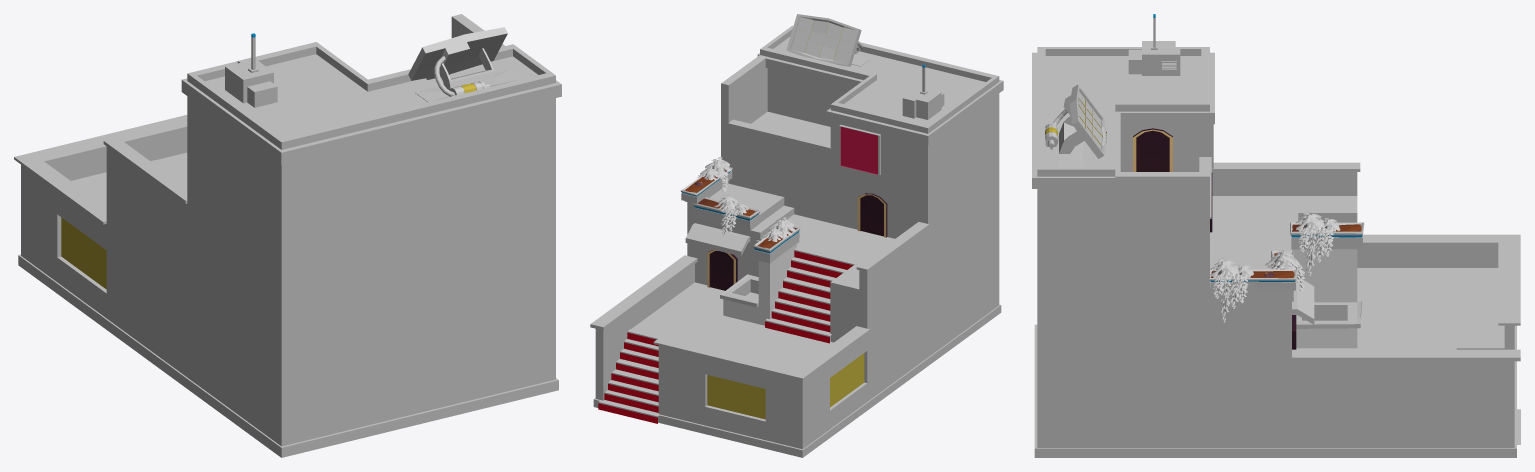
Rendered from Building_ApartmentTest2.fbx.
3 renders of one model, left to right at view 1: azimuth 30°, elevation 25°; view 2: azimuth 150°, elevation 25°; view 3: azimuth 270°, elevation 25°, orthographic. The views are drawn at different scales.
Parts seen in each view (by area): view 1: Double House Platform 01; view 2: Double House Platform 01, Planter.011, Planter.012, Planter.006; view 3: Double House Platform 01, Planter.006, Planter.012, Planter.011.
Boxes of the visible parts, x1=… form: Double House Platform 01: x1=14, y1=14, x2=561, y2=457; Double House Platform 01: x1=590, y1=14, x2=1003, y2=457; Planter.011: x1=693, y1=195, x2=760, y2=235; Planter.012: x1=753, y1=217, x2=800, y2=263; Planter.006: x1=681, y1=157, x2=732, y2=203; Double House Platform 01: x1=1032, y1=14, x2=1520, y2=457; Planter.006: x1=1208, y1=258, x2=1297, y2=322; Planter.012: x1=1290, y1=211, x2=1364, y2=275; Planter.011: x1=1265, y1=250, x2=1305, y2=301.
Size of the model in its own units: 799 by 958 by 1263.
